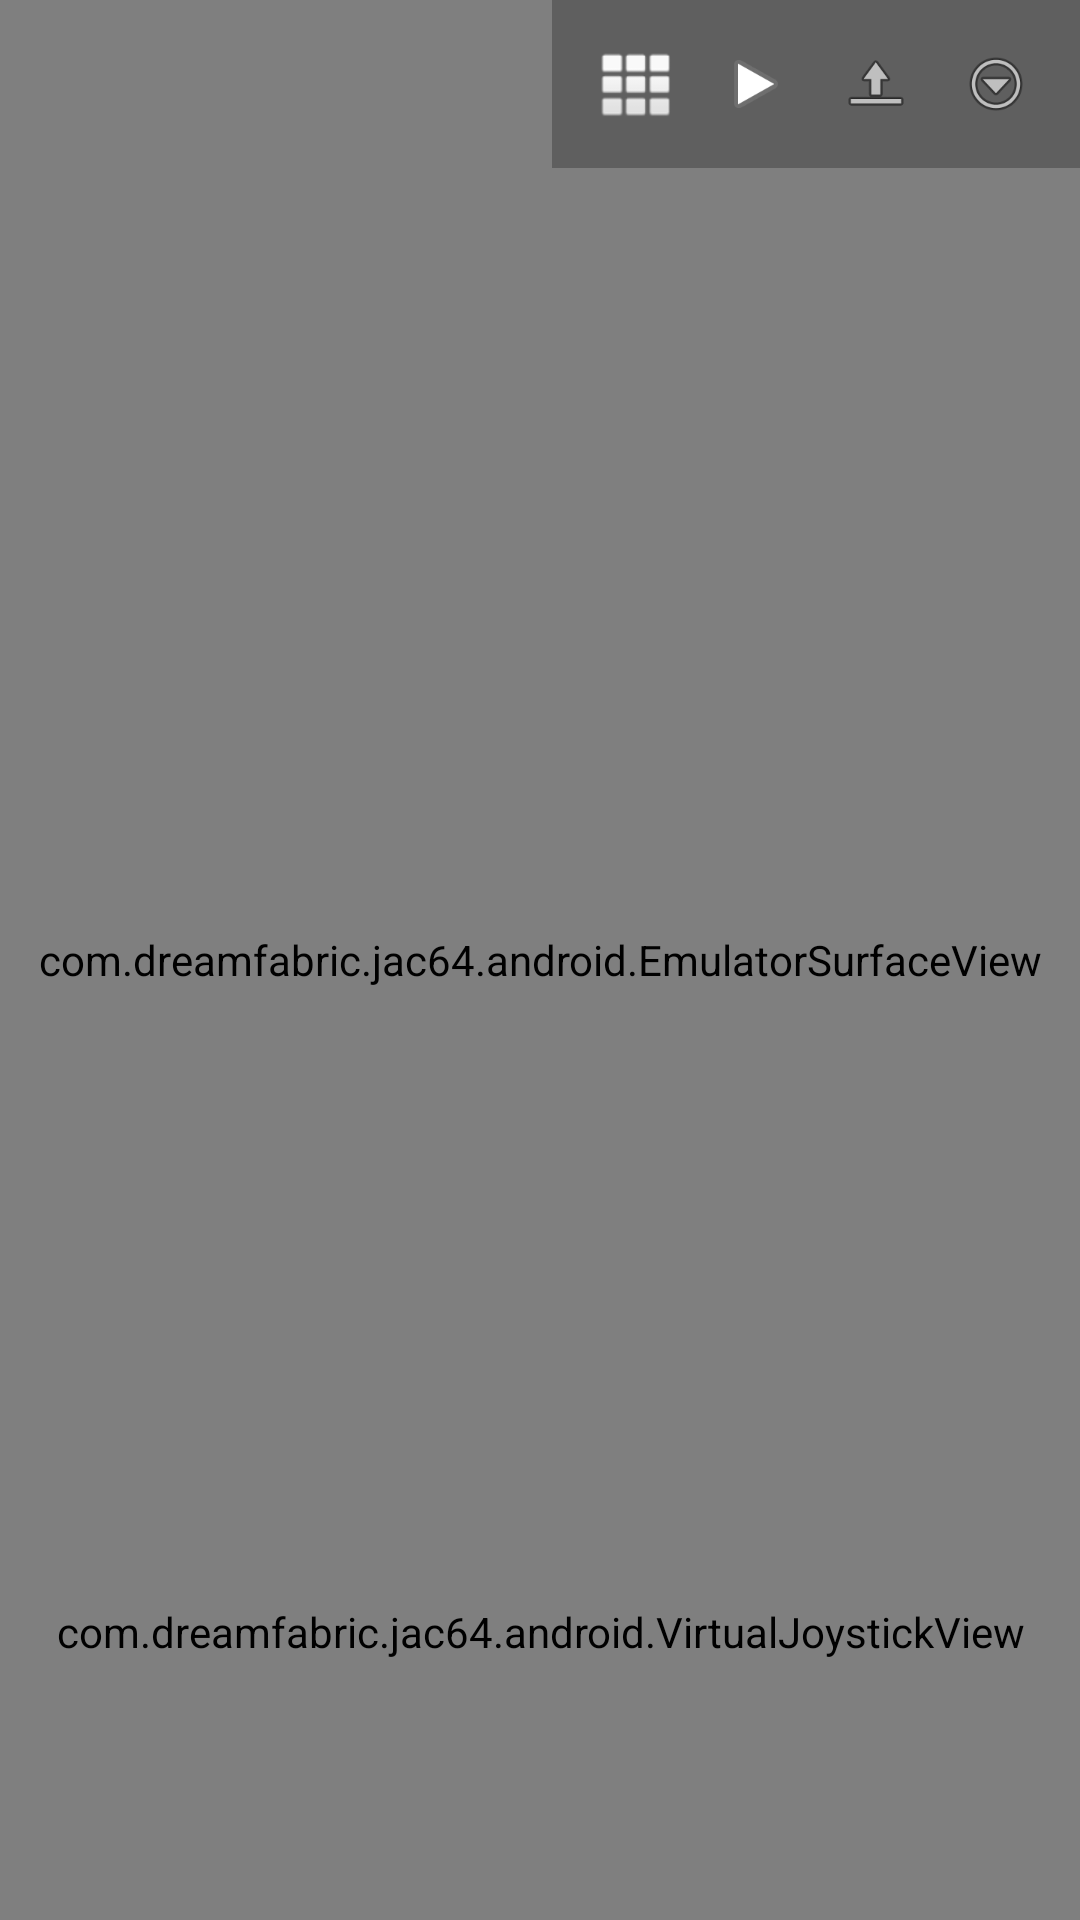

Point at icon controls on the screen. Image size 1080px x 1920px, points as point (x, y).
Keyboard: point (635, 85)
Open File/Disk: point (876, 83)
